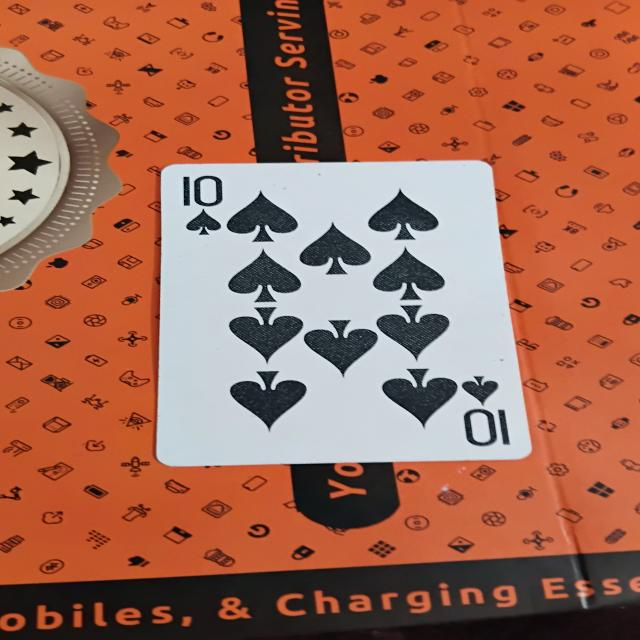10S: (153, 160, 528, 459)
